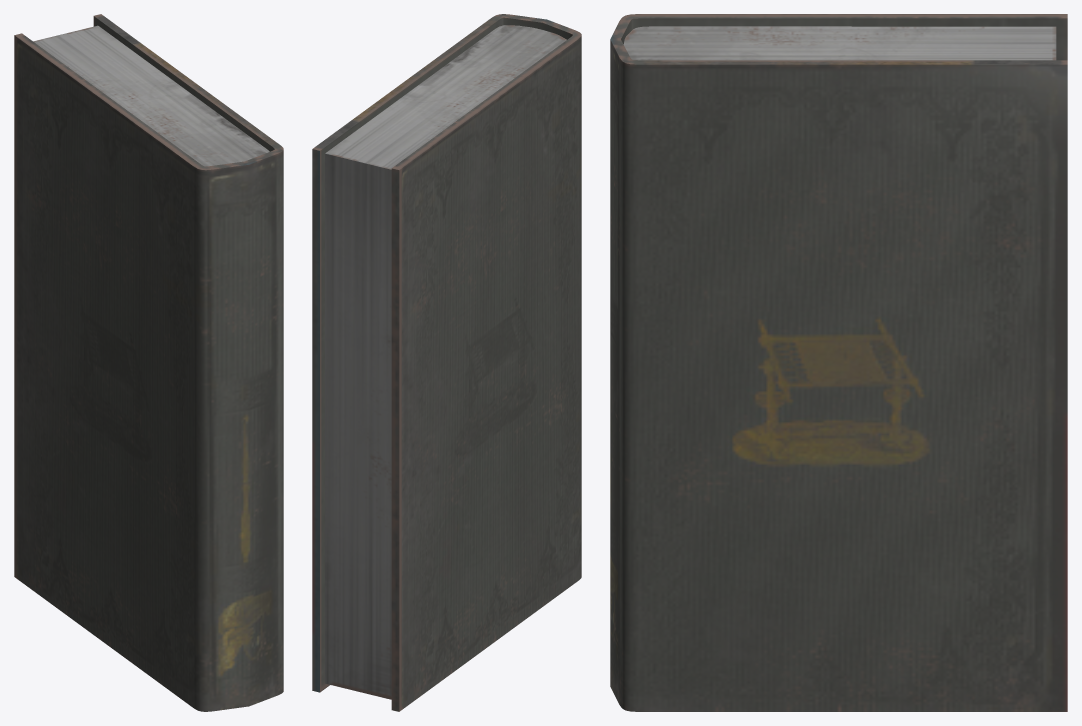
File: SM_BookSet_A4.fbx
The picture shows the model from 3 angles, left to right: view 1: azimuth 30°, elevation 25°; view 2: azimuth 150°, elevation 25°; view 3: azimuth 270°, elevation 25°; orthographic projection. The views are drawn at different scales.
Parts seen in each view (by area): view 1: SM_BookSet_A4; view 2: SM_BookSet_A4; view 3: SM_BookSet_A4.
Boxes of the visible parts, x1,y1,x2,y2 form: SM_BookSet_A4: [14, 14, 283, 711]; SM_BookSet_A4: [312, 14, 581, 711]; SM_BookSet_A4: [610, 14, 1067, 711].
Bounding box in the file's own units: 3.9 × 14.85 × 23.19.
Materials: 1 (1 with a texture image).
